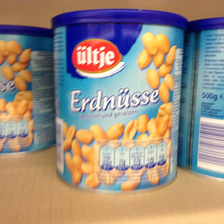nuts: (50, 9, 188, 192), (1, 24, 56, 156)
